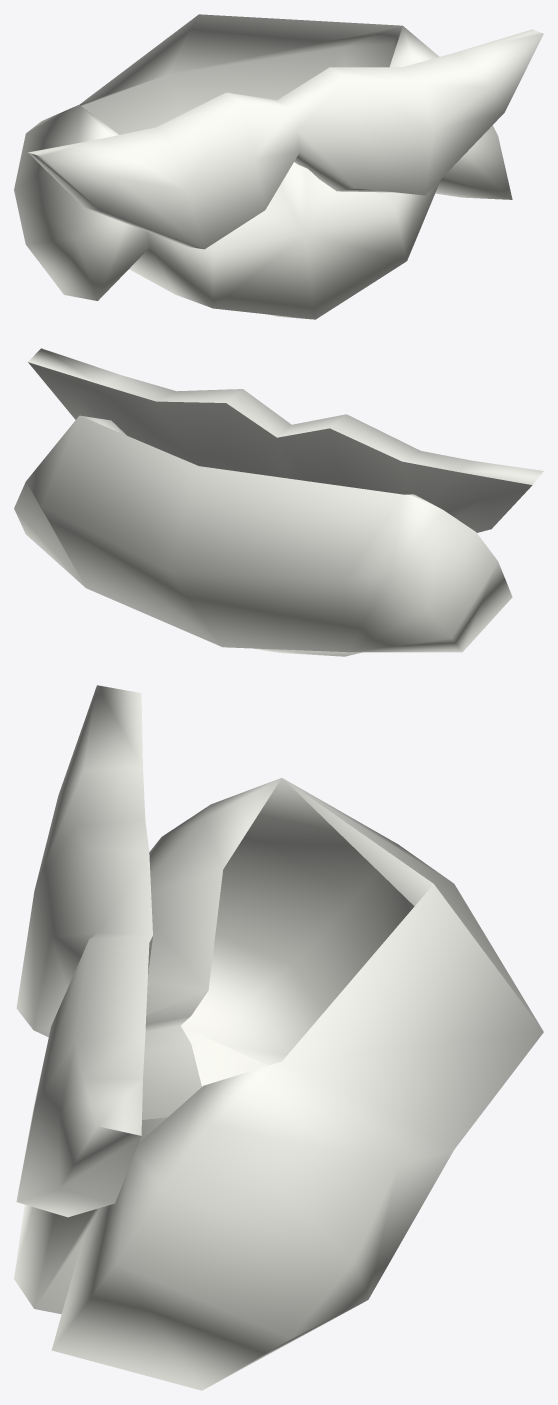
The model's file is Beard_White_12.fbx.
3 views of the same model, one above another, from view 1: azimuth 30°, elevation 25°; view 2: azimuth 150°, elevation 25°; view 3: azimuth 270°, elevation 25° (orthographic). The views are drawn at different scales.
Parts seen in each view (by area): view 1: Beard_White_12; view 2: Beard_White_12; view 3: Beard_White_12.
Part boxes in pixels (left/top/right/bottom): Beard_White_12: left=14, top=14, right=543, bottom=319; Beard_White_12: left=14, top=348, right=543, bottom=656; Beard_White_12: left=14, top=685, right=543, bottom=1390.
Bounding box in the file's own units: 58.29 × 26.99 × 29.49.
